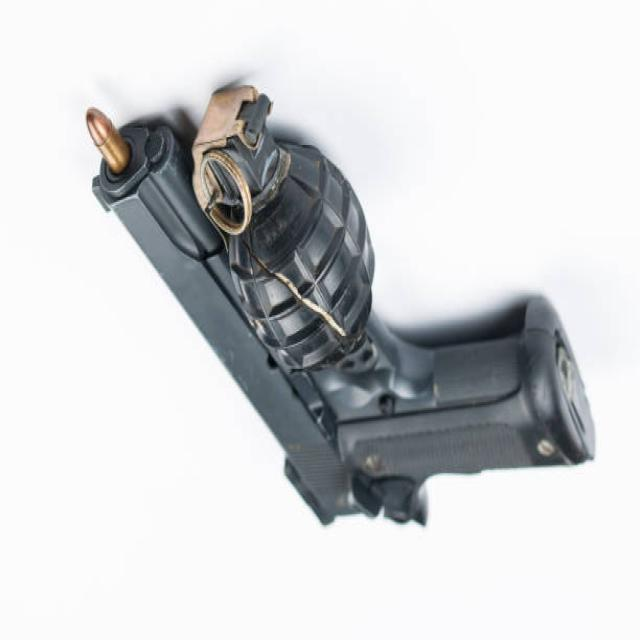grenade: (193, 70, 386, 391)
